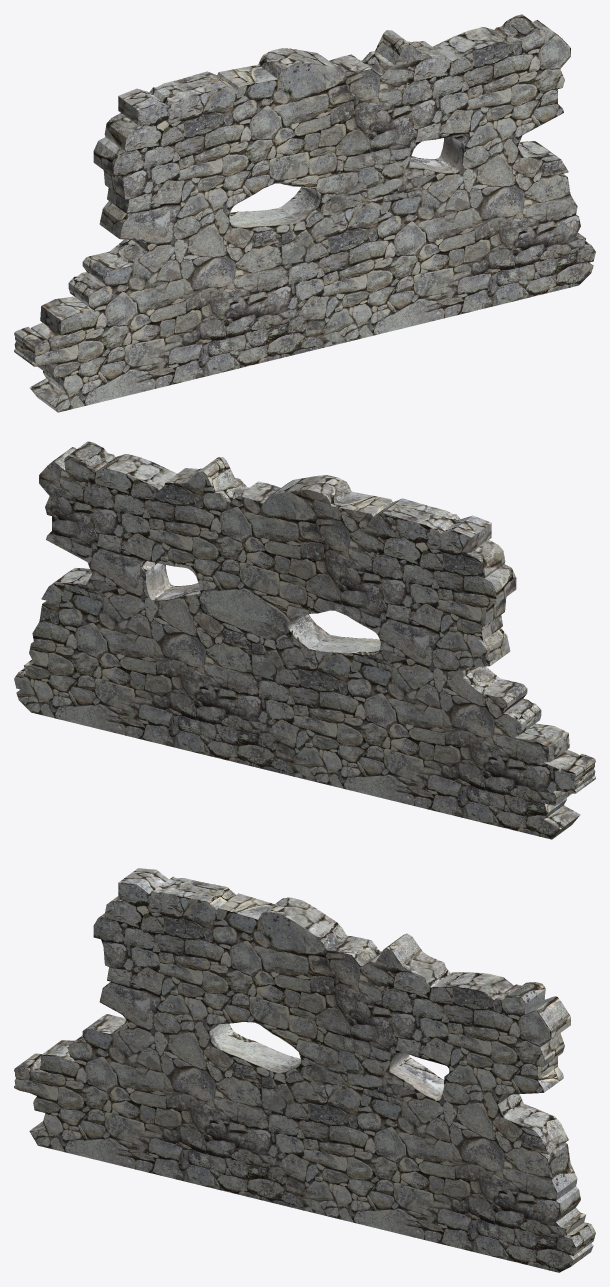
Rendered from Wall.fbx.
3 renders of one model, top to bottom at view 1: azimuth 30°, elevation 25°; view 2: azimuth 150°, elevation 25°; view 3: azimuth 330°, elevation 25°, orthographic.
Parts seen in each view (by area): view 1: Mesh2; view 2: Mesh2; view 3: Mesh2.
Boxes of the visible parts, bbox=[...] form: Mesh2: bbox=[14, 14, 595, 412]; Mesh2: bbox=[14, 441, 595, 839]; Mesh2: bbox=[14, 868, 595, 1272].
Size of the model in its own units: 9.9 by 4.89 by 0.61.
